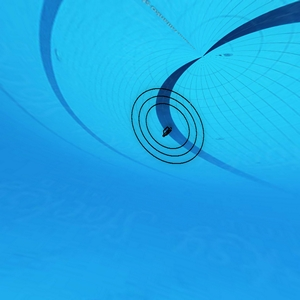circle: (129, 86, 207, 165)
submarine: (162, 125, 173, 137), (161, 124, 167, 129)
